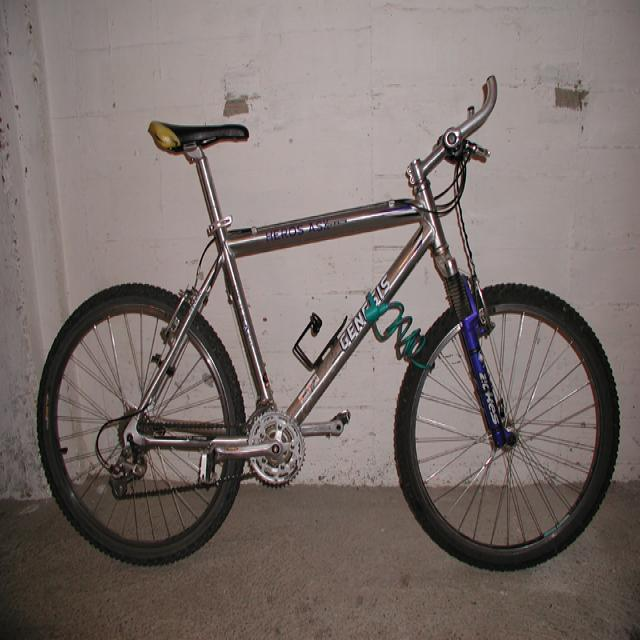bicycle: (35, 73, 620, 571)
